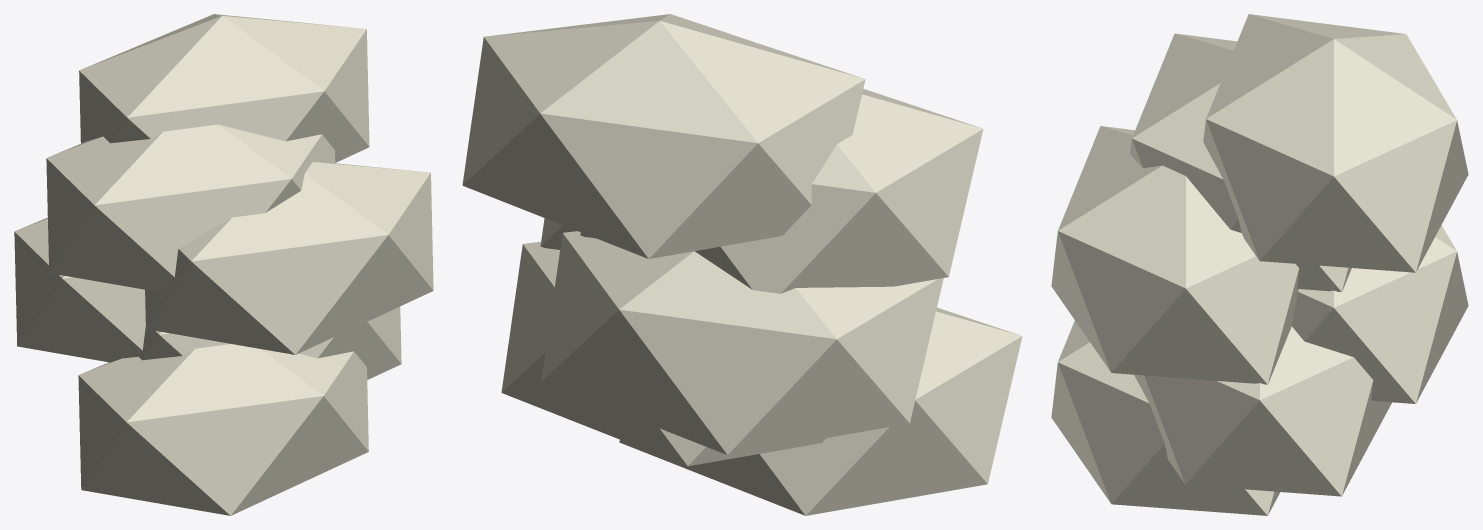
Rendered from item_100_limestone_l.glb.
The picture shows the model from 3 angles, left to right: view 1: azimuth 30°, elevation 25°; view 2: azimuth 150°, elevation 25°; view 3: azimuth 270°, elevation 25°; orthographic projection. The views are drawn at different scales.
Visible parts, largest first — view 1: item_100_limestone_l; view 2: item_100_limestone_l; view 3: item_100_limestone_l.
Boxes of the visible parts, x1,y1,x2,y2 form: item_100_limestone_l: (14, 14, 433, 515); item_100_limestone_l: (462, 14, 1022, 515); item_100_limestone_l: (1051, 14, 1468, 515).
Bounding box in the file's own units: 0.3782 × 0.4356 × 0.3379.
